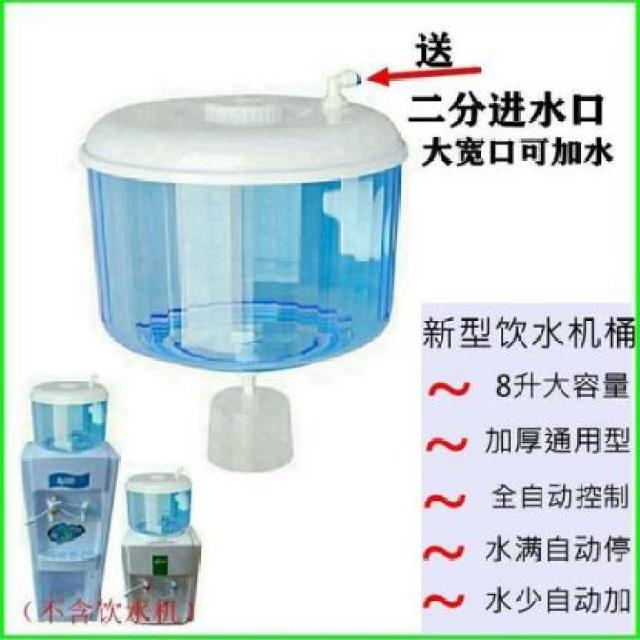coolerbottle: (77, 89, 414, 382)
